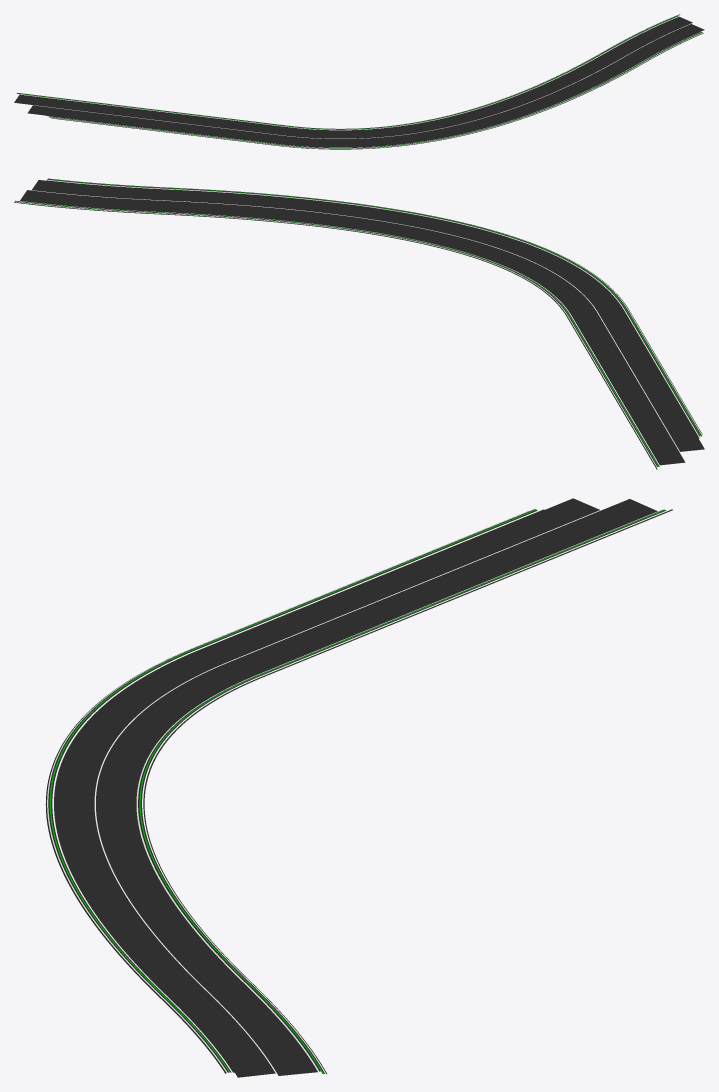
The model's file is Spa.Short.03.glb.
3 views of the same model, one above another, from view 1: azimuth 30°, elevation 25°; view 2: azimuth 150°, elevation 25°; view 3: azimuth 270°, elevation 25° (orthographic). The views are drawn at different scales.
Parts seen in each view (by area): view 1: Track.003; view 2: Track.003; view 3: Track.003.
Part boxes in pixels (x1,y1,x2,y2): Track.003: (14, 14, 704, 149); Track.003: (14, 178, 704, 469); Track.003: (45, 498, 672, 1077).
Size of the model in its own units: 208 by 0.1549 by 95.14.
